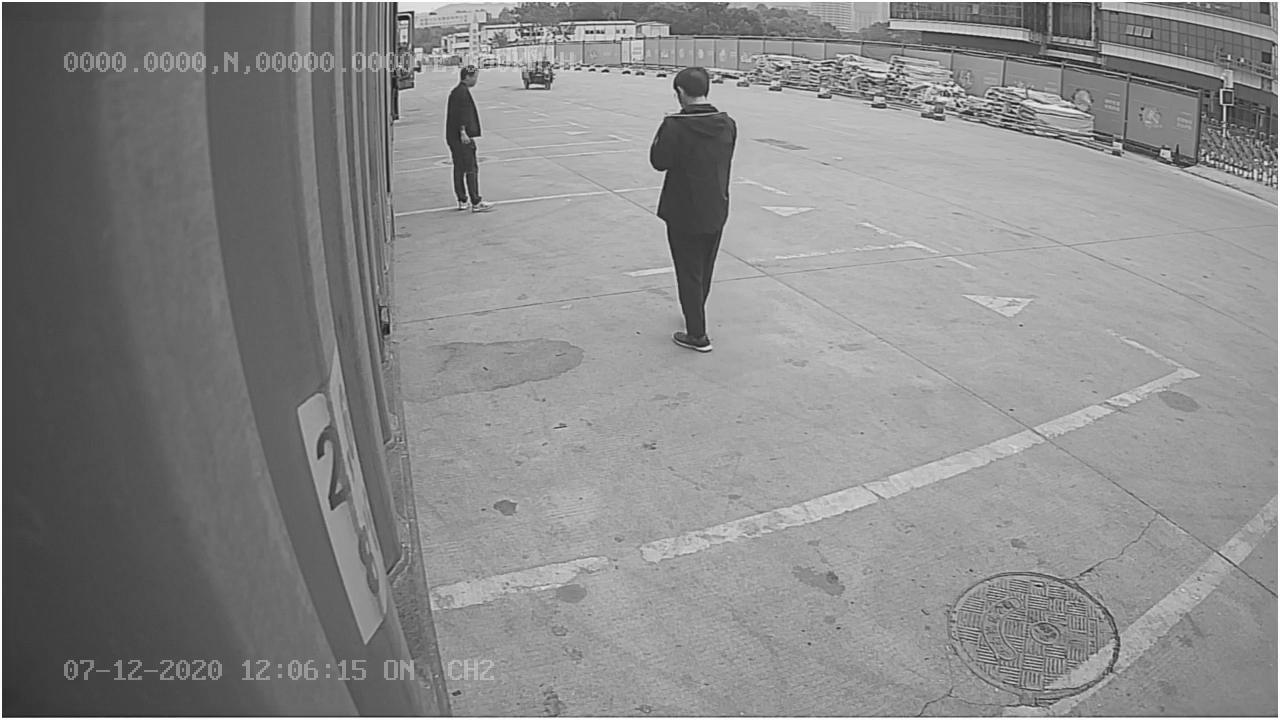person: (644, 63, 741, 351)
